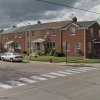crosswalk: (0, 66, 98, 90)
